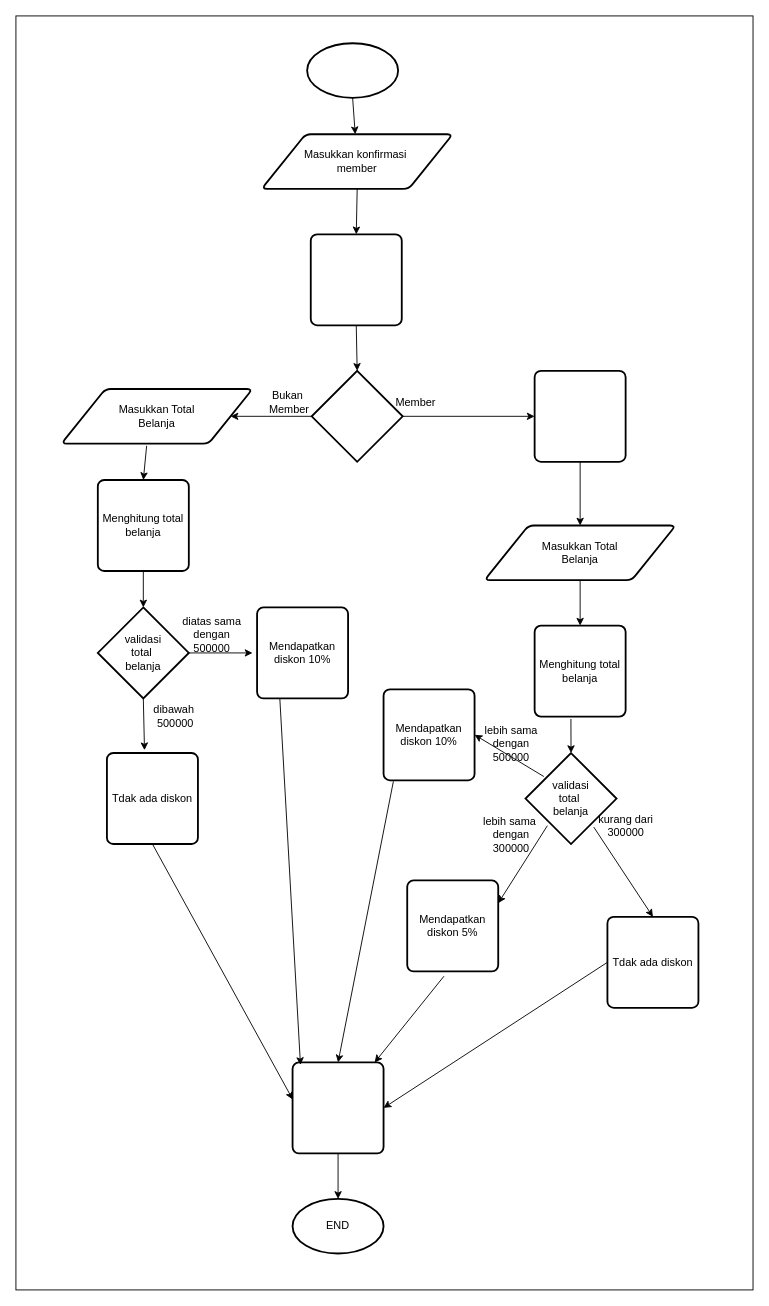
The diagram is 769 pixels wide and 1306 high, and some of its shapes have lost their labels. Here are the shapes that lost their labels. From the top down, the centre of each, then its label:
point (352, 70): START
point (355, 279): Konfirmasi member
point (356, 415): validasi member
point (579, 415): mendapat diskon member 10%
point (337, 1107): Menghitung TOTAL BAYAR
